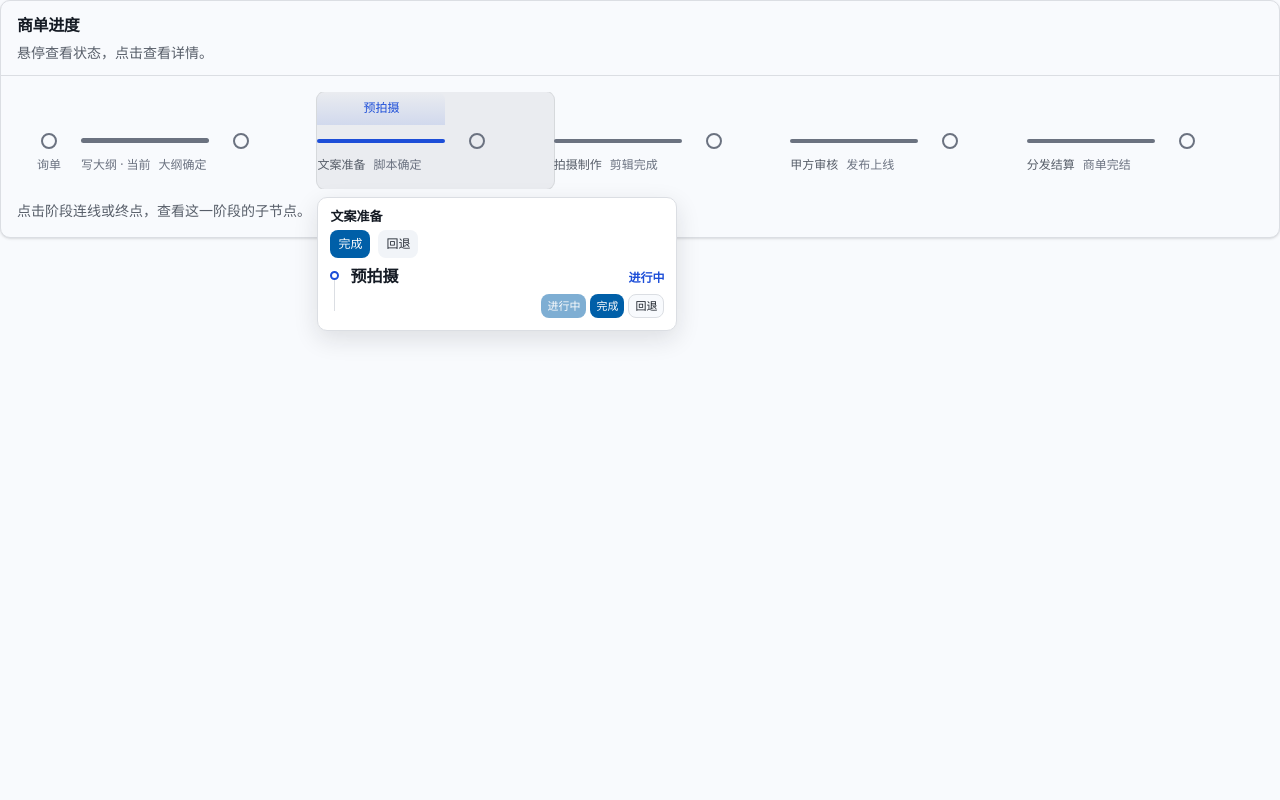
Test: stage tooltip node actions › 完成 sends forward and 回退 sends rollback for the selected node
Click the button with test id "tooltip-node-complete-pre_shoot": (607, 306) [590,294,624,318]
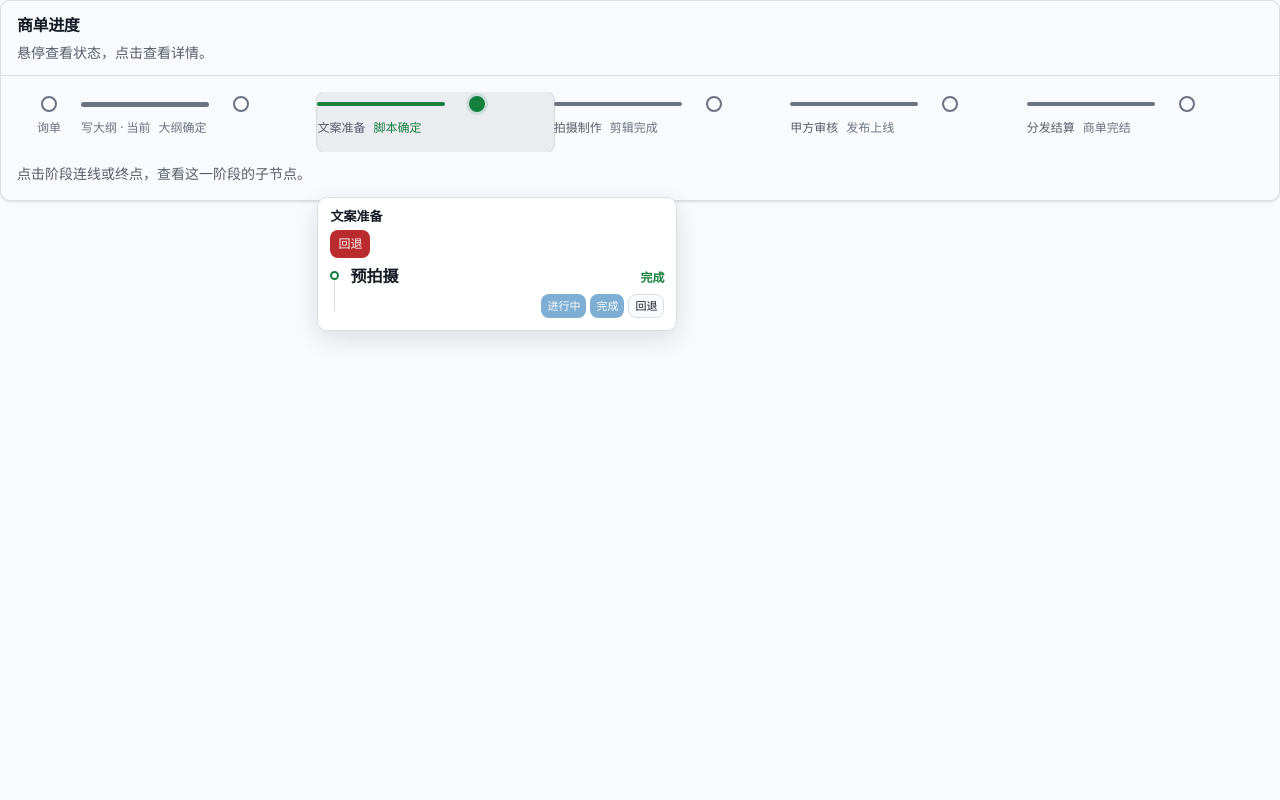
Expected: the button with test id "tooltip-node-complete-pre_shoot" is disabled, [590,294,624,318]
Click the button with test id "tooltip-node-rollback-pre_shoot": (646, 306) [628,294,664,318]
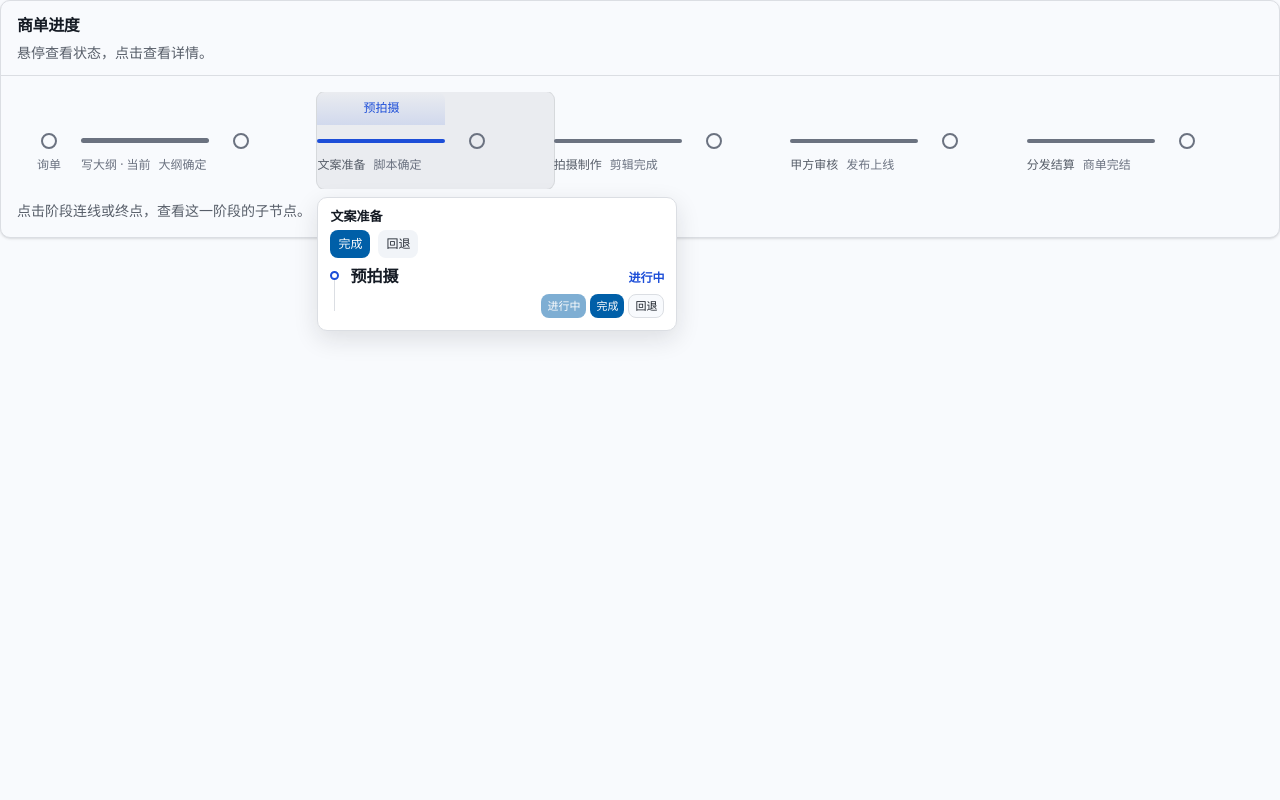
Expected: the button with test id "tooltip-node-start-pre_shoot" is disabled, [541,294,586,318]
Expected: the button with test id "tooltip-node-complete-pre_shoot" is enabled, [590,294,624,318]
